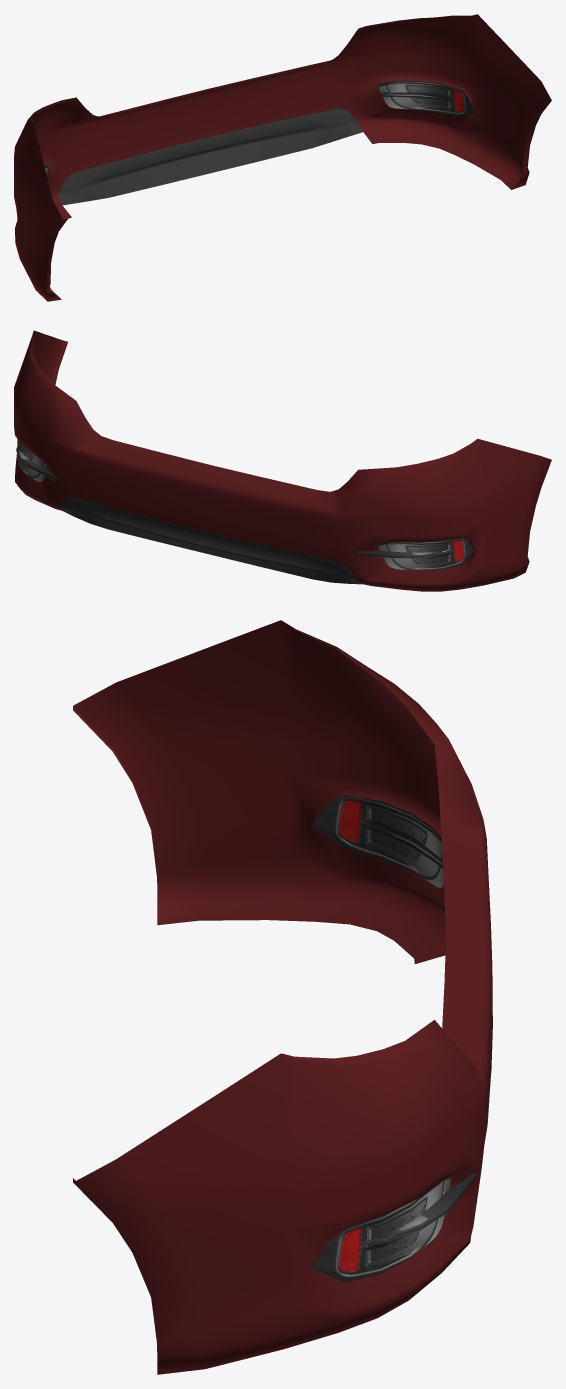
File: Honda_Civic_Back_Bumper_01.glb
3 views of the same model, one above another, from view 1: azimuth 30°, elevation 25°; view 2: azimuth 150°, elevation 25°; view 3: azimuth 270°, elevation 25° (orthographic). The views are drawn at different scales.
Visible parts, largest first — view 1: Mesh_Honda_Civic_Back_Bumper_01; view 2: Mesh_Honda_Civic_Back_Bumper_01; view 3: Mesh_Honda_Civic_Back_Bumper_01.
Part boxes in pixels (bbox=[...]): Mesh_Honda_Civic_Back_Bumper_01: bbox=[14, 14, 551, 301]; Mesh_Honda_Civic_Back_Bumper_01: bbox=[14, 330, 551, 591]; Mesh_Honda_Civic_Back_Bumper_01: bbox=[73, 620, 492, 1374].
Bounding box in the file's own units: 90.79 × 27.33 × 33.79.
Materials: 3 (1 with a texture image).
